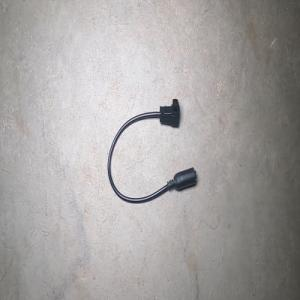Wire: (107, 98, 197, 203)
